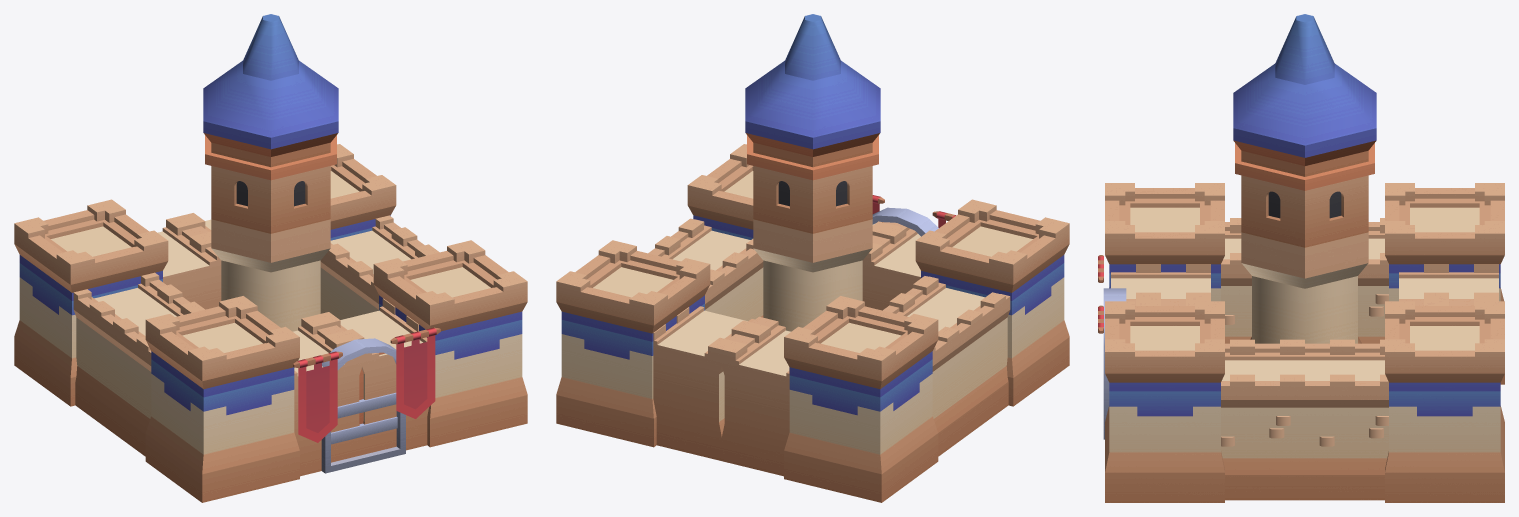
File: realm_rival_castle.glb
The picture shows the model from 3 angles, left to right: view 1: azimuth 30°, elevation 25°; view 2: azimuth 150°, elevation 25°; view 3: azimuth 270°, elevation 25°; orthographic projection. The views are drawn at different scales.
Visible parts, largest first — view 1: realm_rival_castle; view 2: realm_rival_castle; view 3: realm_rival_castle.
Boxes of the visible parts, bbox=[...] form: realm_rival_castle: bbox=[14, 14, 527, 502]; realm_rival_castle: bbox=[556, 14, 1069, 502]; realm_rival_castle: bbox=[1098, 14, 1504, 502].
Size of the model in its own units: 2 by 2.21 by 2.03.
Materials: 22 (22 with a texture image).
